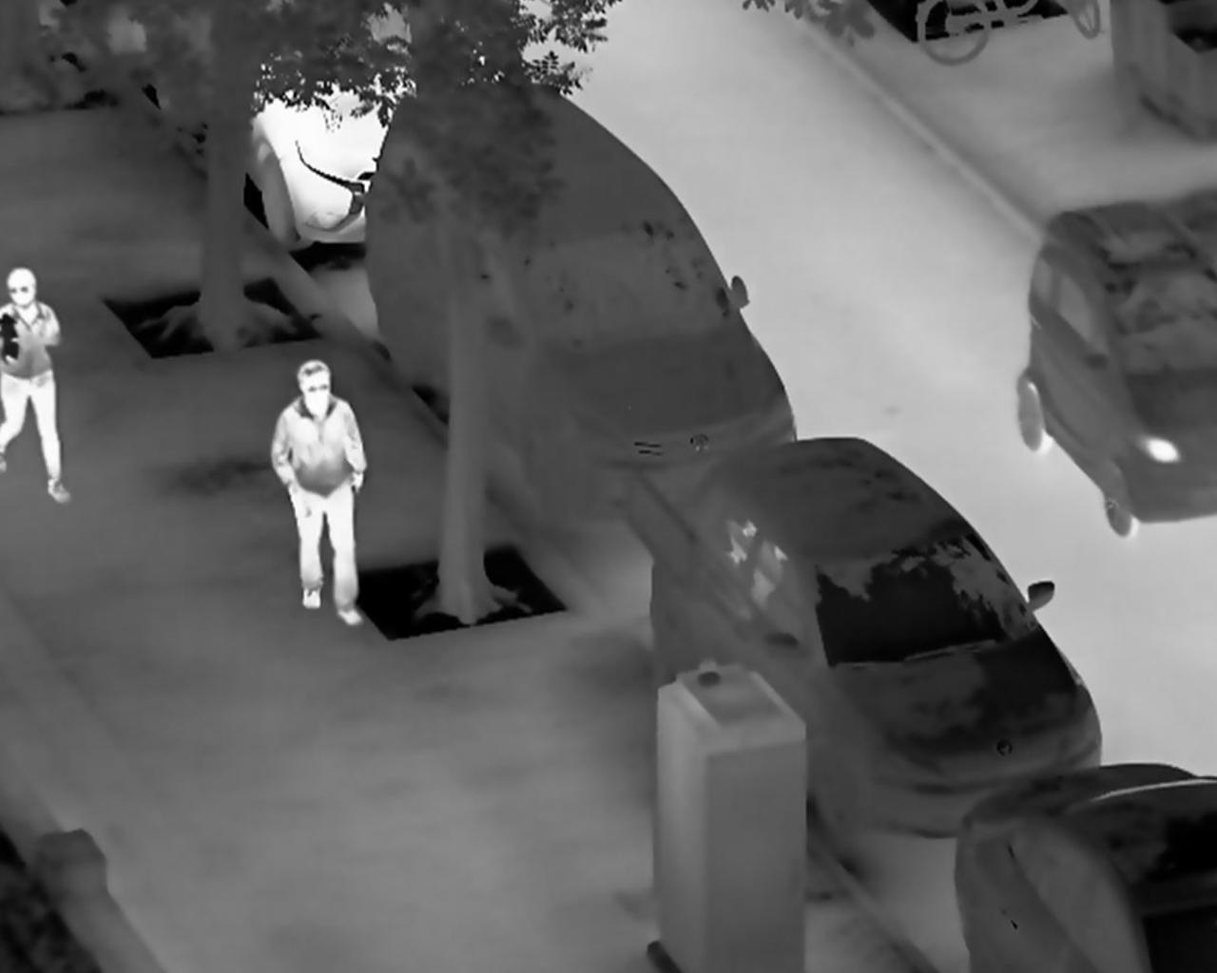person: (266, 357, 370, 632)
